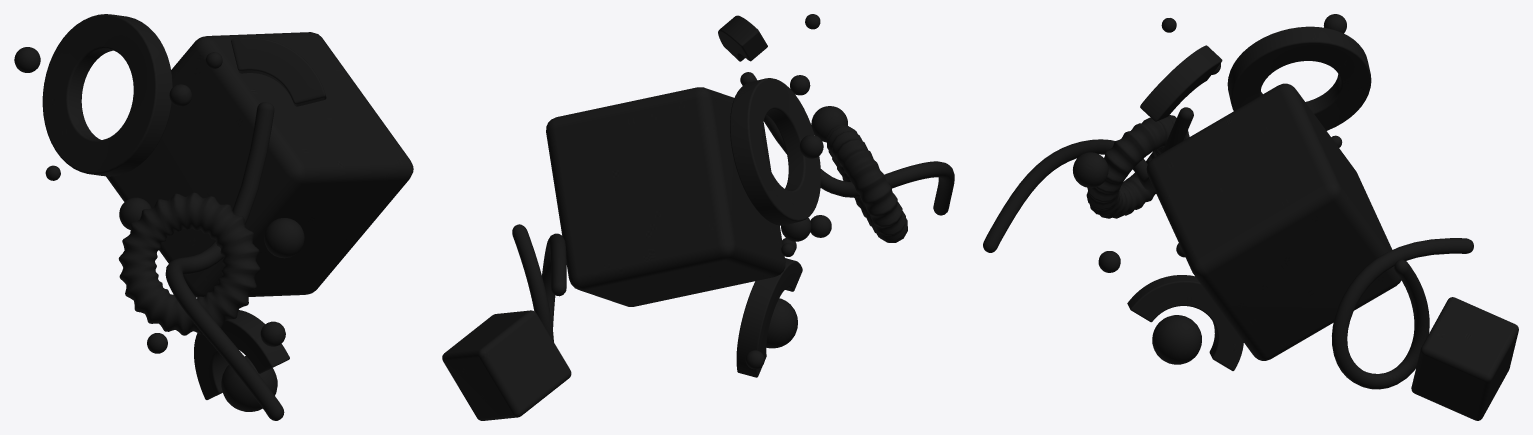
Rendered from Recurso_135.gltf.
The picture shows the model from 3 angles, left to right: view 1: azimuth 30°, elevation 25°; view 2: azimuth 150°, elevation 25°; view 3: azimuth 270°, elevation 25°; orthographic projection. The views are drawn at different scales.
Visible parts, largest first — view 1: icons8_abstract_composition_with_shapes; view 2: icons8_abstract_composition_with_shapes; view 3: icons8_abstract_composition_with_shapes.
Part boxes in pixels (x1=…): icons8_abstract_composition_with_shapes: x1=14, y1=14, x2=413, y2=420; icons8_abstract_composition_with_shapes: x1=442, y1=14, x2=954, y2=420; icons8_abstract_composition_with_shapes: x1=983, y1=14, x2=1518, y2=420.
Bounding box in the file's own units: 1.8 × 1.98 × 2.87.
1 material, 1 textured.
